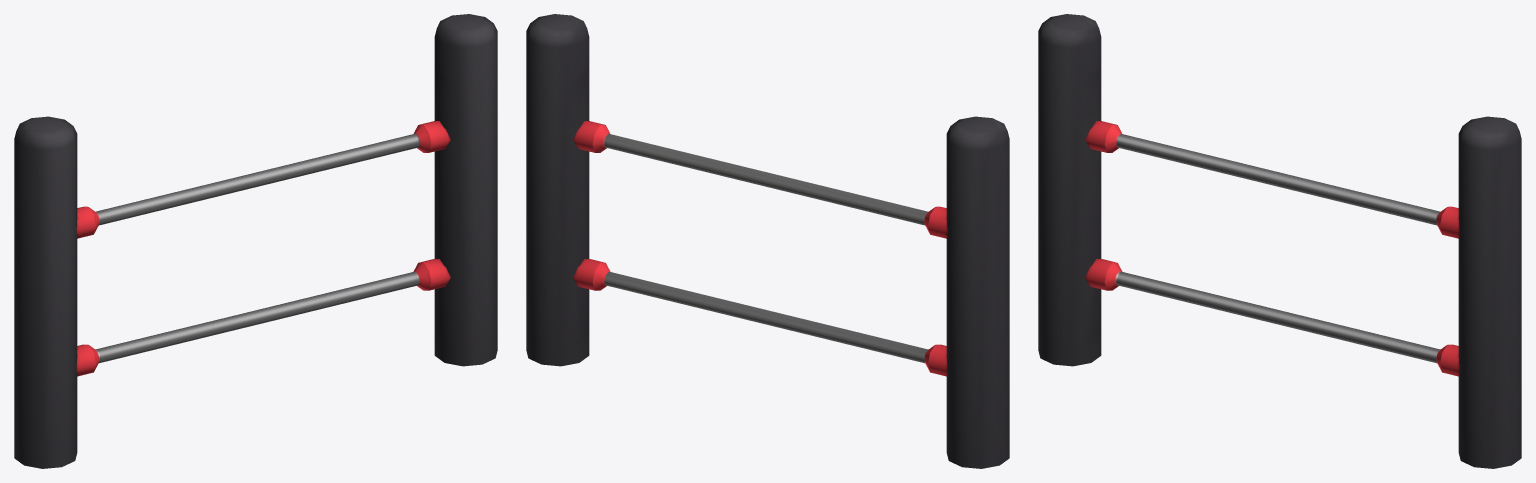
The model's file is electric_fence_5m.fbx.
The picture shows the model from 3 angles, left to right: view 1: azimuth 30°, elevation 25°; view 2: azimuth 150°, elevation 25°; view 3: azimuth 330°, elevation 25°; orthographic projection.
Visible parts, largest first — view 1: Cylinder.007; view 2: Cylinder.007; view 3: Cylinder.007.
Part boxes in pixels (left/top/right/bottom): Cylinder.007: left=14, top=14, right=497, bottom=468; Cylinder.007: left=526, top=14, right=1009, bottom=468; Cylinder.007: left=1038, top=14, right=1521, bottom=468.
Bounding box in the file's own units: 509 × 339 × 60.
